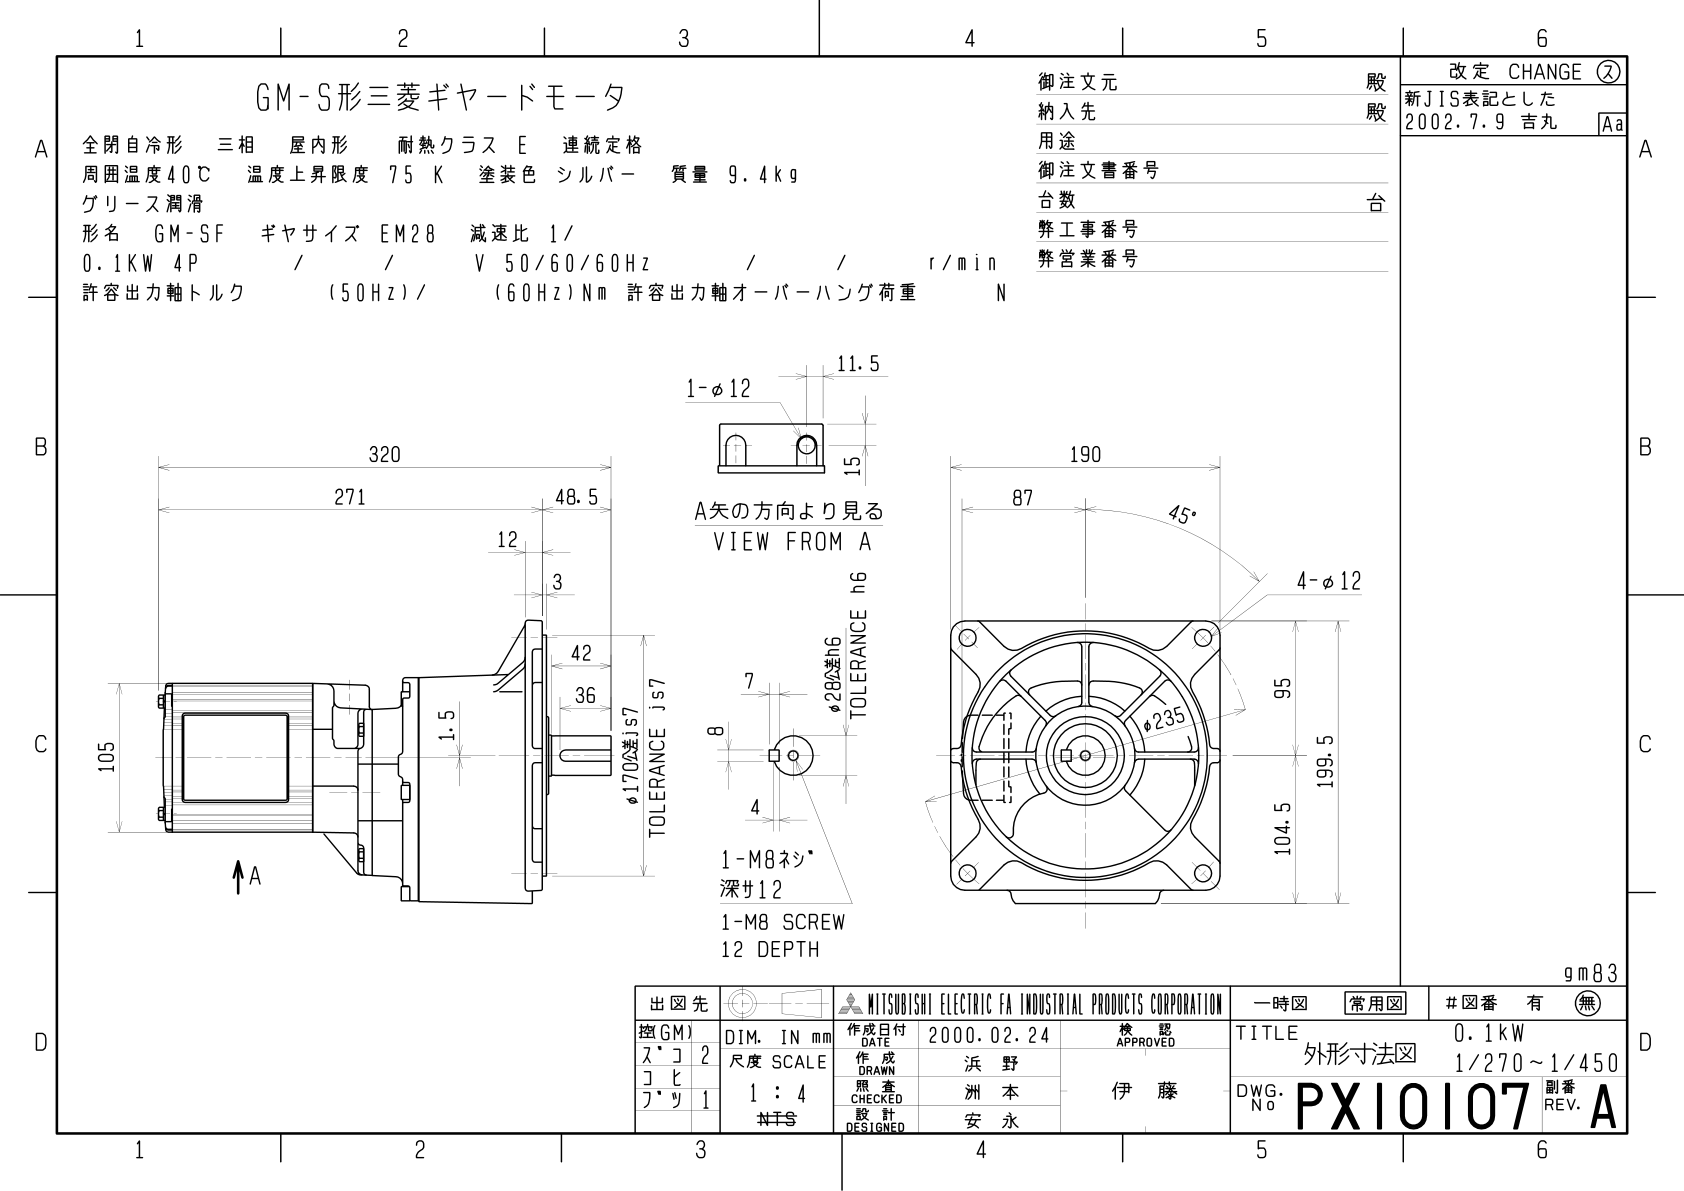GM_S_屋内＿三相_フランジ: (75, 318, 1381, 965)
